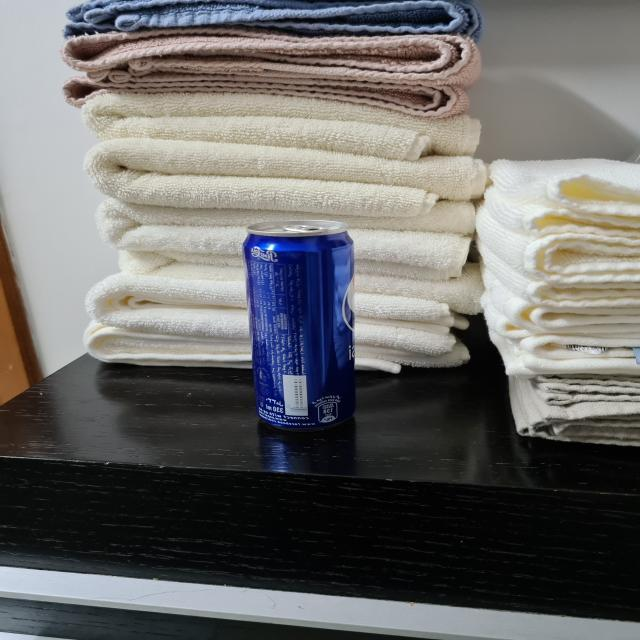can: (242, 218, 362, 429)
